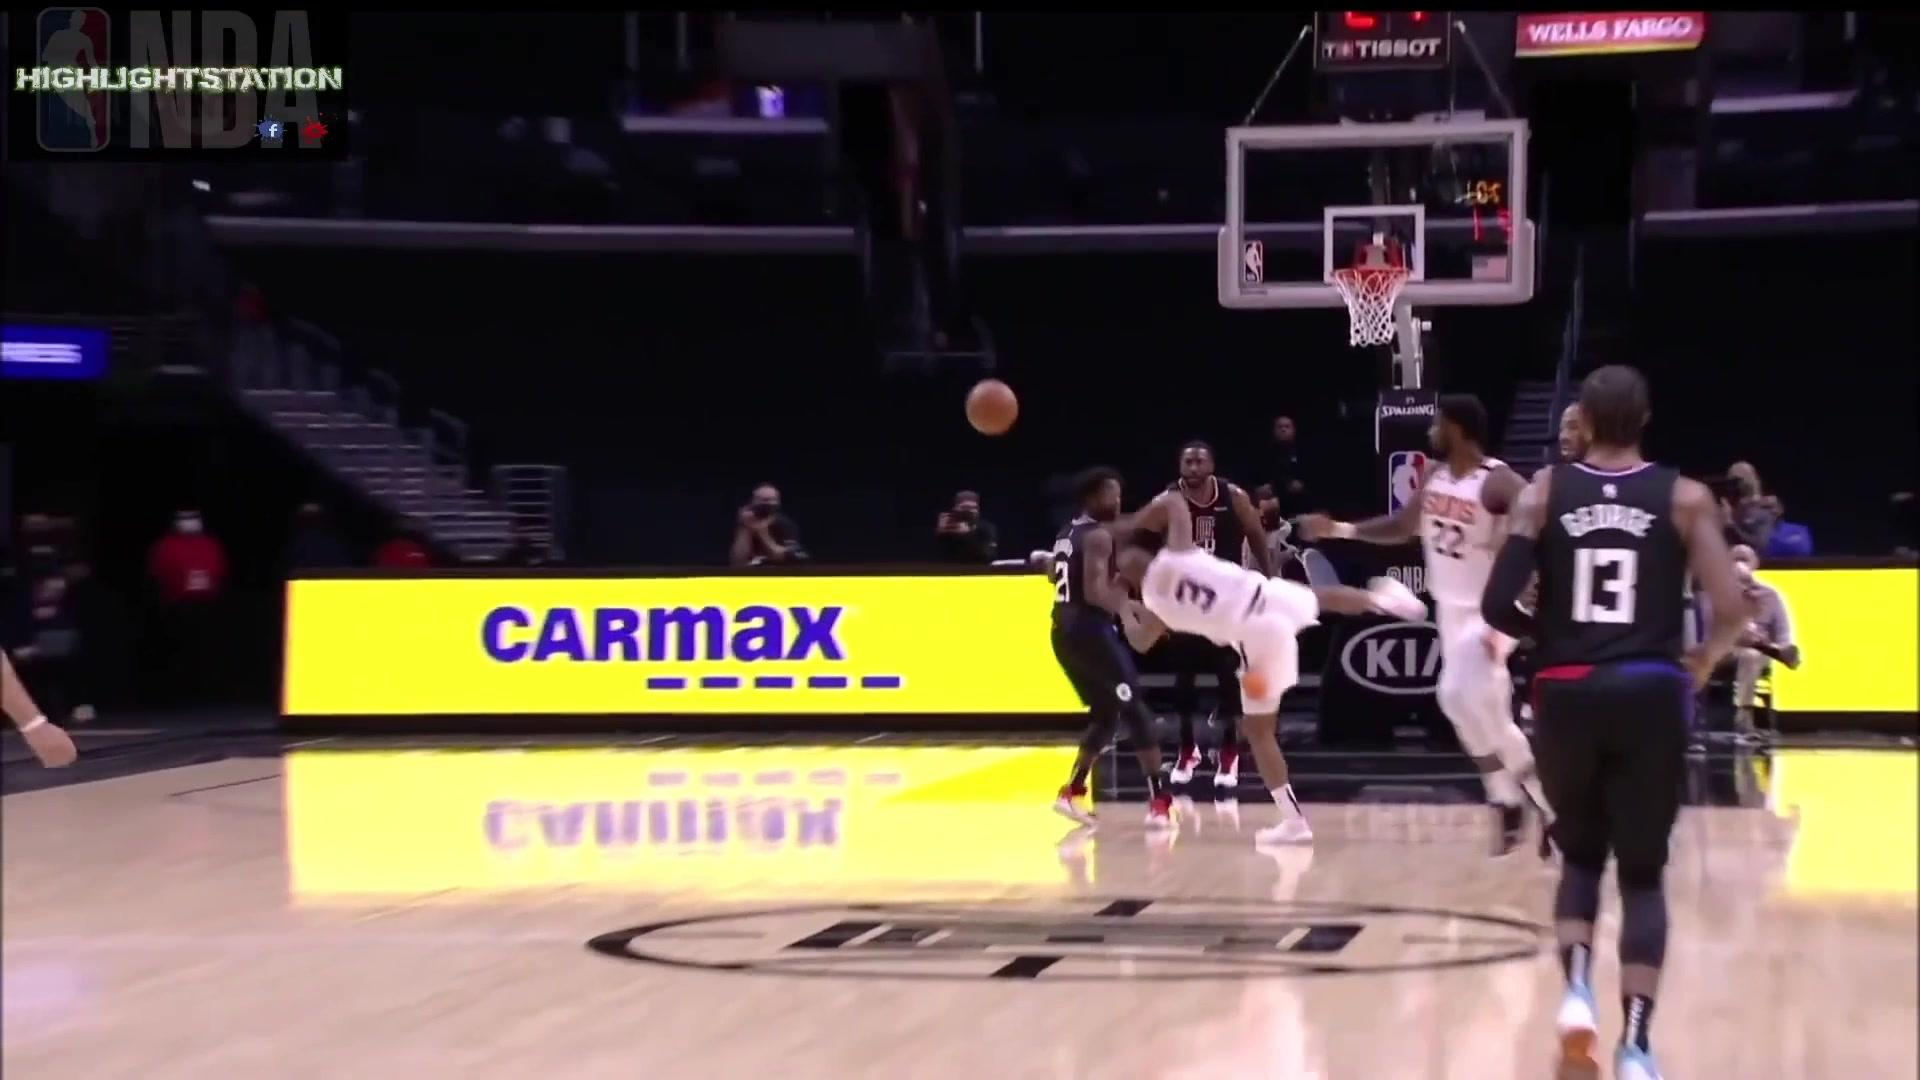foul: (1048, 475, 1362, 832)
